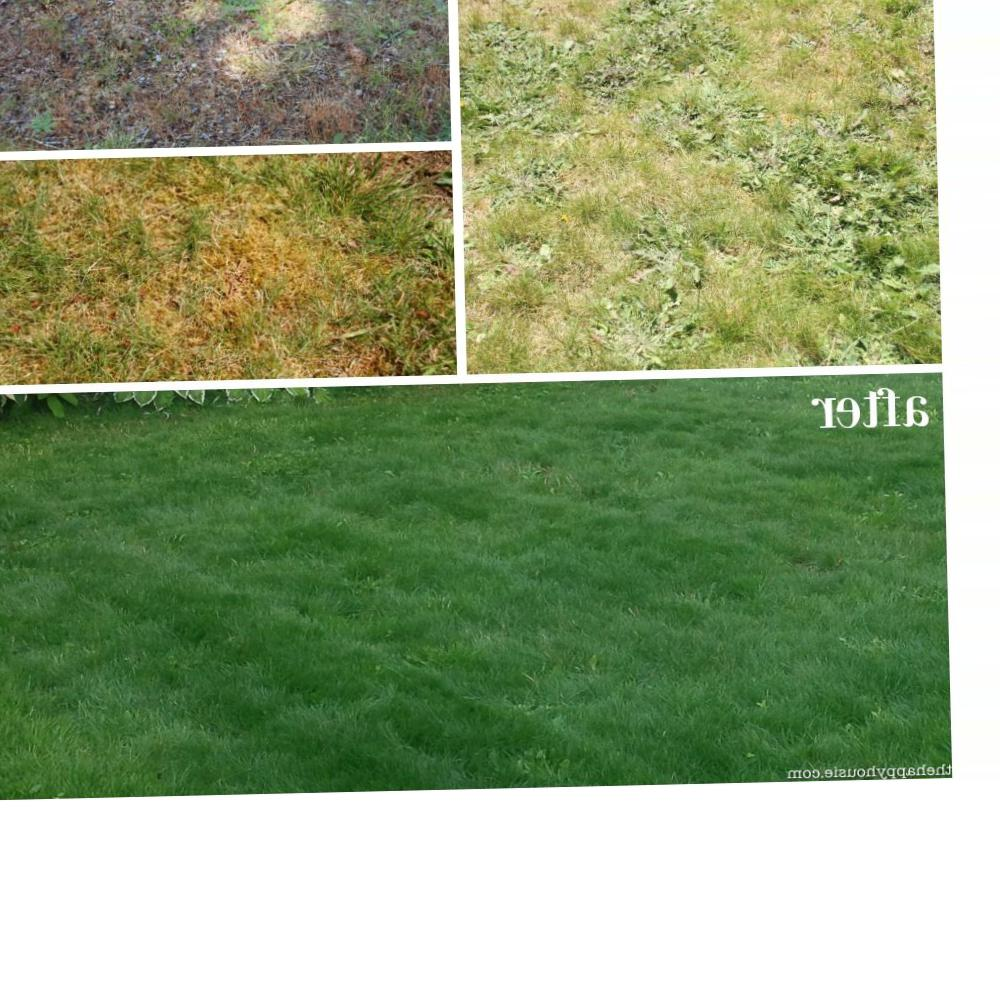patch: (58, 183, 427, 337), (544, 104, 726, 276), (469, 146, 614, 322), (595, 235, 742, 365), (706, 30, 853, 154), (203, 10, 299, 59)
